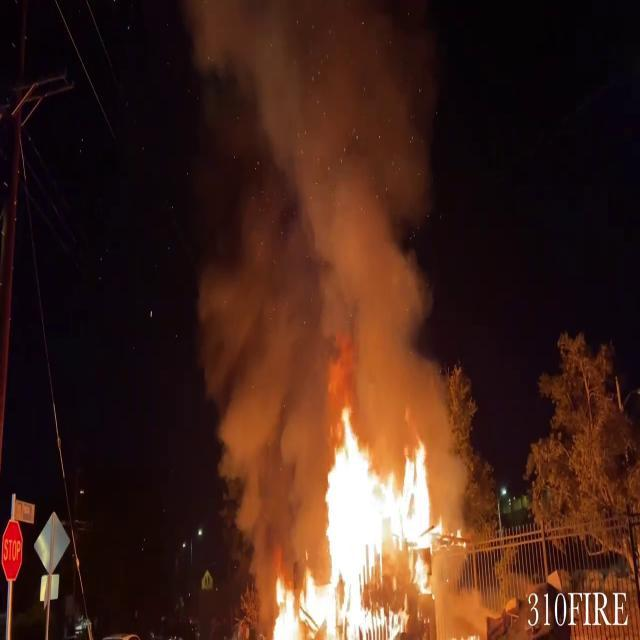Fire: (266, 393, 460, 640)
Smoke: (180, 0, 462, 446)
